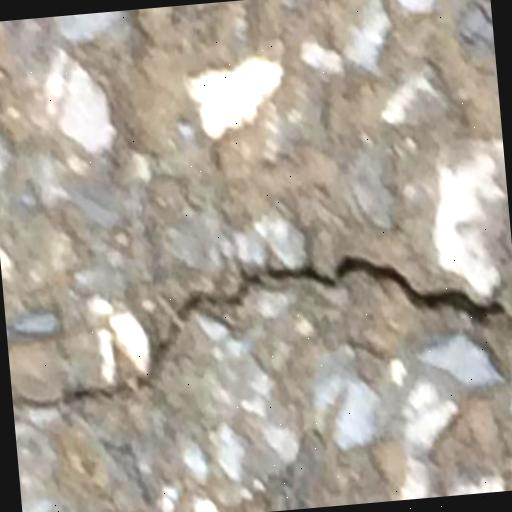spalling: (16, 249, 507, 412)
